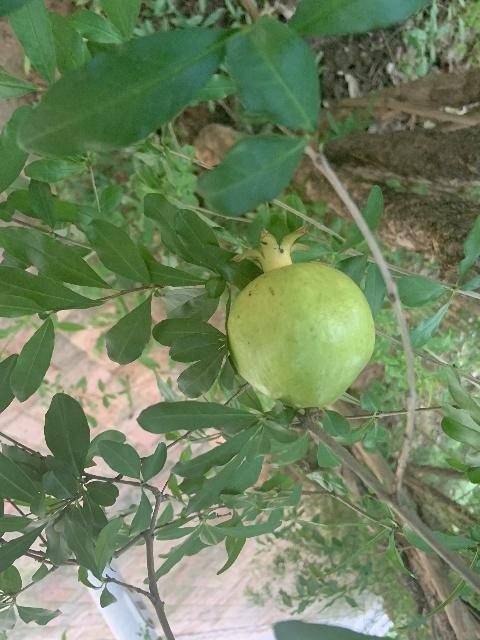mid-growth: (226, 224, 375, 407)
